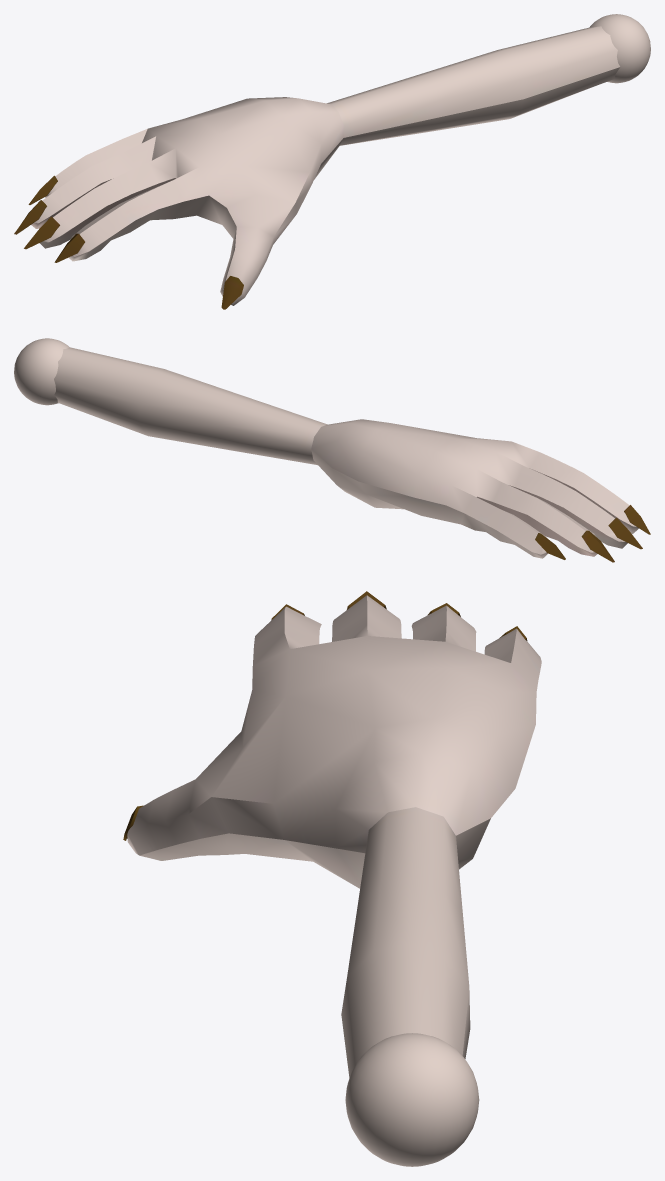
The model's file is antebrazo_I.obj.
3 renders of one model, top to bottom at view 1: azimuth 30°, elevation 25°; view 2: azimuth 150°, elevation 25°; view 3: azimuth 270°, elevation 25°, orthographic. The views are drawn at different scales.
Visible parts, largest first — view 1: antebrazo_I; view 2: antebrazo_I; view 3: antebrazo_I.
Boxes of the visible parts, x1=… form: antebrazo_I: x1=14, y1=14, x2=650, y2=309; antebrazo_I: x1=14, y1=338, x2=650, y2=562; antebrazo_I: x1=123, y1=591, x2=541, y2=1166.
Size of the model in its own units: 53.55 by 10.16 by 15.81.
Materials: 2 (2 with a texture image).
